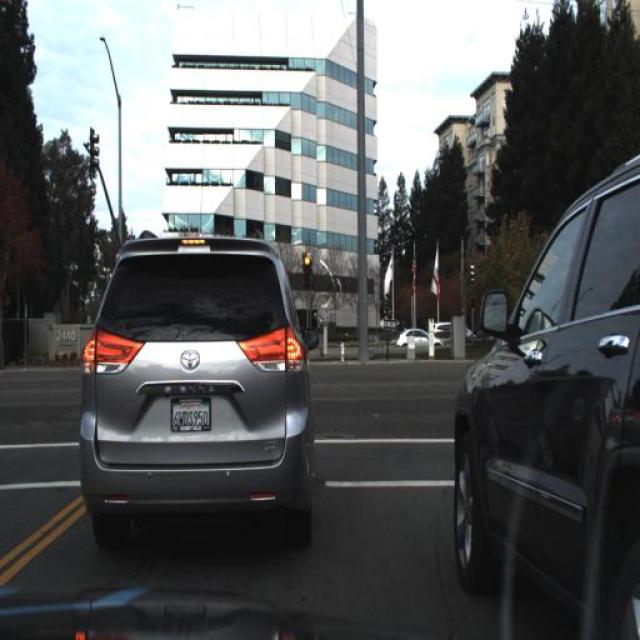car: (432, 125, 638, 637), (78, 219, 337, 556), (396, 318, 436, 358)
trafficLight-RedLeft: (296, 232, 320, 308)
